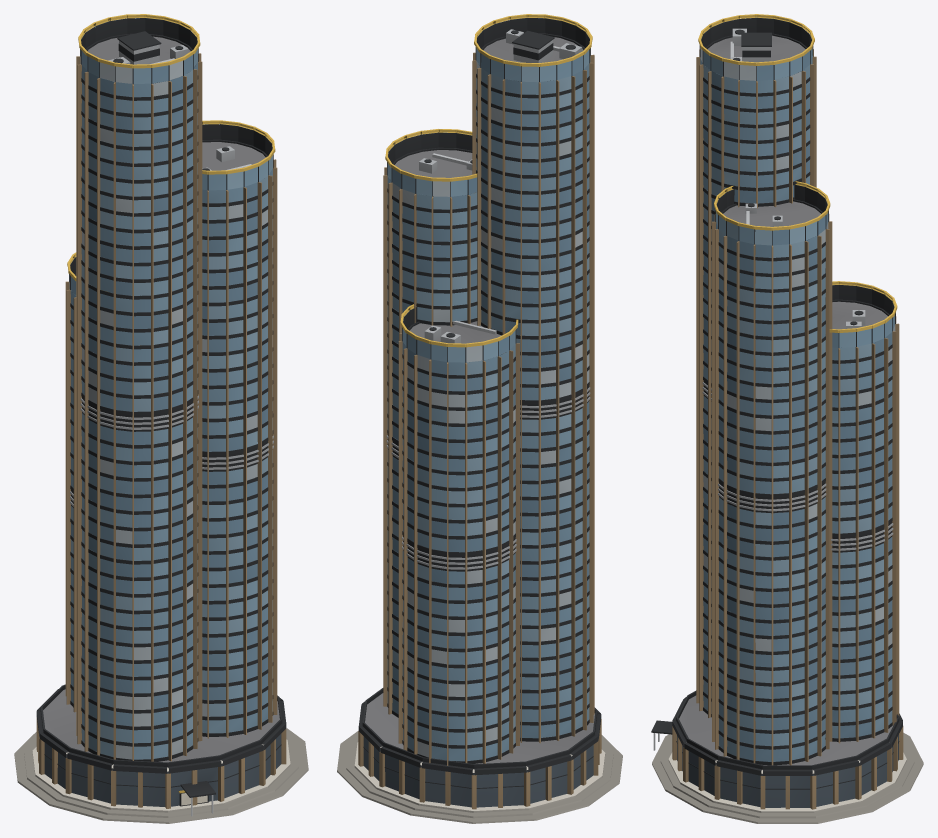
The picture shows the model from 3 angles, left to right: view 1: azimuth 30°, elevation 25°; view 2: azimuth 150°, elevation 25°; view 3: azimuth 270°, elevation 25°; orthographic projection. The views are drawn at different scales.
Visible parts, largest first — view 1: t5; view 2: t5; view 3: t5.
Part boxes in pixels (left/top/right/bottom): t5: left=14, top=14, right=308, bottom=823; t5: left=337, top=14, right=622, bottom=823; t5: left=651, top=14, right=923, bottom=823.
Size of the model in its own units: 63.04 by 175 by 61.14.
